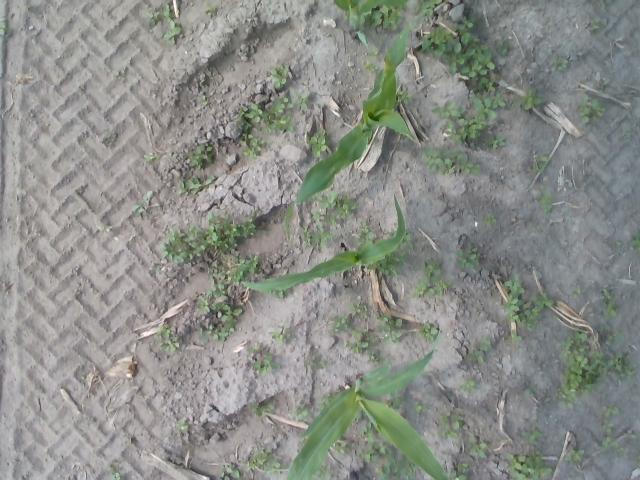Maize: (284, 20, 415, 244), (284, 349, 448, 479), (240, 192, 406, 290), (335, 0, 409, 50)
Weeds: (158, 212, 242, 264), (556, 330, 606, 409), (449, 33, 496, 75), (423, 146, 481, 175), (507, 453, 553, 480), (607, 352, 636, 384), (576, 94, 604, 124), (372, 5, 402, 30), (422, 27, 454, 49), (252, 353, 282, 376), (521, 301, 542, 332), (376, 453, 401, 479), (474, 94, 497, 122), (431, 100, 466, 118), (501, 272, 527, 296), (454, 117, 482, 139), (516, 88, 544, 110), (455, 245, 480, 269), (348, 330, 372, 354), (260, 458, 284, 479), (336, 194, 356, 216), (442, 120, 462, 142), (330, 314, 350, 336), (415, 1, 442, 17), (251, 448, 271, 468), (418, 322, 438, 342), (502, 294, 522, 314), (348, 302, 369, 321), (318, 190, 336, 212), (532, 292, 554, 310), (197, 329, 227, 342), (468, 437, 486, 458), (219, 305, 242, 321), (370, 436, 392, 452), (275, 114, 294, 132), (165, 20, 182, 40), (208, 260, 226, 278), (228, 265, 248, 281), (311, 136, 326, 157), (268, 330, 290, 344), (434, 276, 452, 293), (220, 465, 240, 480), (449, 470, 482, 479), (142, 191, 159, 208), (361, 448, 379, 464), (402, 455, 414, 479), (523, 430, 541, 446), (438, 428, 464, 438), (602, 302, 618, 318), (531, 156, 547, 172), (489, 136, 507, 150), (290, 406, 308, 420), (475, 74, 489, 92), (451, 410, 465, 428), (464, 351, 486, 362), (252, 402, 268, 417), (628, 230, 640, 250), (541, 192, 553, 212), (319, 463, 333, 480), (294, 91, 308, 108), (492, 92, 505, 110), (234, 118, 252, 131), (300, 227, 312, 246), (429, 257, 441, 276), (332, 442, 348, 456), (154, 324, 170, 338), (197, 296, 211, 312), (160, 341, 180, 352), (250, 103, 261, 122), (188, 177, 201, 193), (389, 392, 402, 408), (460, 380, 476, 393), (246, 254, 258, 271), (476, 340, 493, 352), (564, 450, 584, 460), (242, 222, 256, 236), (552, 56, 566, 70), (242, 147, 258, 159), (602, 405, 619, 416), (205, 290, 228, 298), (398, 91, 412, 104), (420, 263, 432, 278), (590, 16, 602, 31), (274, 73, 286, 88), (201, 144, 213, 159), (316, 357, 332, 368), (148, 12, 159, 28), (362, 59, 378, 70), (498, 39, 508, 56), (187, 153, 200, 166), (385, 264, 397, 278), (152, 262, 164, 276), (390, 332, 404, 344), (262, 112, 274, 126), (603, 436, 615, 450), (528, 450, 542, 462), (484, 212, 498, 224), (326, 214, 341, 225), (460, 17, 473, 29), (604, 289, 616, 302), (602, 420, 613, 434), (319, 230, 334, 240), (419, 278, 431, 290), (378, 312, 390, 324), (252, 138, 264, 150), (273, 100, 285, 112), (508, 330, 520, 342), (248, 209, 259, 222), (358, 220, 368, 234), (370, 350, 380, 364), (598, 322, 612, 332), (130, 206, 144, 216), (306, 354, 314, 371), (225, 320, 236, 332), (434, 44, 446, 55), (205, 7, 218, 17), (406, 234, 414, 250), (369, 332, 378, 346), (624, 430, 638, 439), (176, 419, 188, 429), (200, 80, 210, 92), (440, 412, 452, 422), (247, 343, 260, 352), (177, 182, 186, 195), (378, 324, 392, 332), (366, 229, 376, 240), (284, 98, 294, 109), (458, 462, 469, 472), (363, 423, 372, 435), (112, 471, 124, 480), (606, 333, 614, 346), (99, 226, 112, 234), (614, 332, 624, 342), (319, 400, 329, 410), (206, 174, 216, 184), (144, 152, 155, 161), (0, 22, 7, 36), (210, 284, 226, 290), (163, 3, 170, 16), (214, 300, 223, 310), (312, 213, 322, 222), (266, 401, 274, 412), (599, 80, 610, 88), (392, 317, 401, 326), (572, 289, 581, 298), (388, 252, 396, 262), (414, 290, 424, 298), (202, 96, 210, 106), (237, 106, 247, 114), (414, 402, 422, 412), (509, 314, 519, 322), (397, 250, 409, 256), (379, 258, 388, 266), (486, 81, 494, 90), (314, 130, 326, 136), (376, 267, 386, 274), (429, 286, 436, 296), (268, 68, 278, 75), (240, 142, 251, 148), (314, 222, 322, 230), (107, 466, 116, 473), (243, 131, 252, 138), (278, 290, 284, 300), (264, 126, 272, 133), (622, 129, 630, 136), (525, 388, 534, 394), (397, 256, 402, 266), (324, 392, 331, 399), (318, 239, 324, 247), (7, 29, 13, 37), (281, 66, 289, 72), (206, 70, 212, 78), (616, 448, 624, 454), (616, 240, 622, 248), (369, 50, 378, 55), (170, 38, 176, 45), (199, 158, 203, 168), (114, 70, 120, 76), (196, 147, 202, 153), (424, 403, 429, 410), (205, 158, 212, 162), (166, 16, 172, 20), (260, 127, 264, 130)
